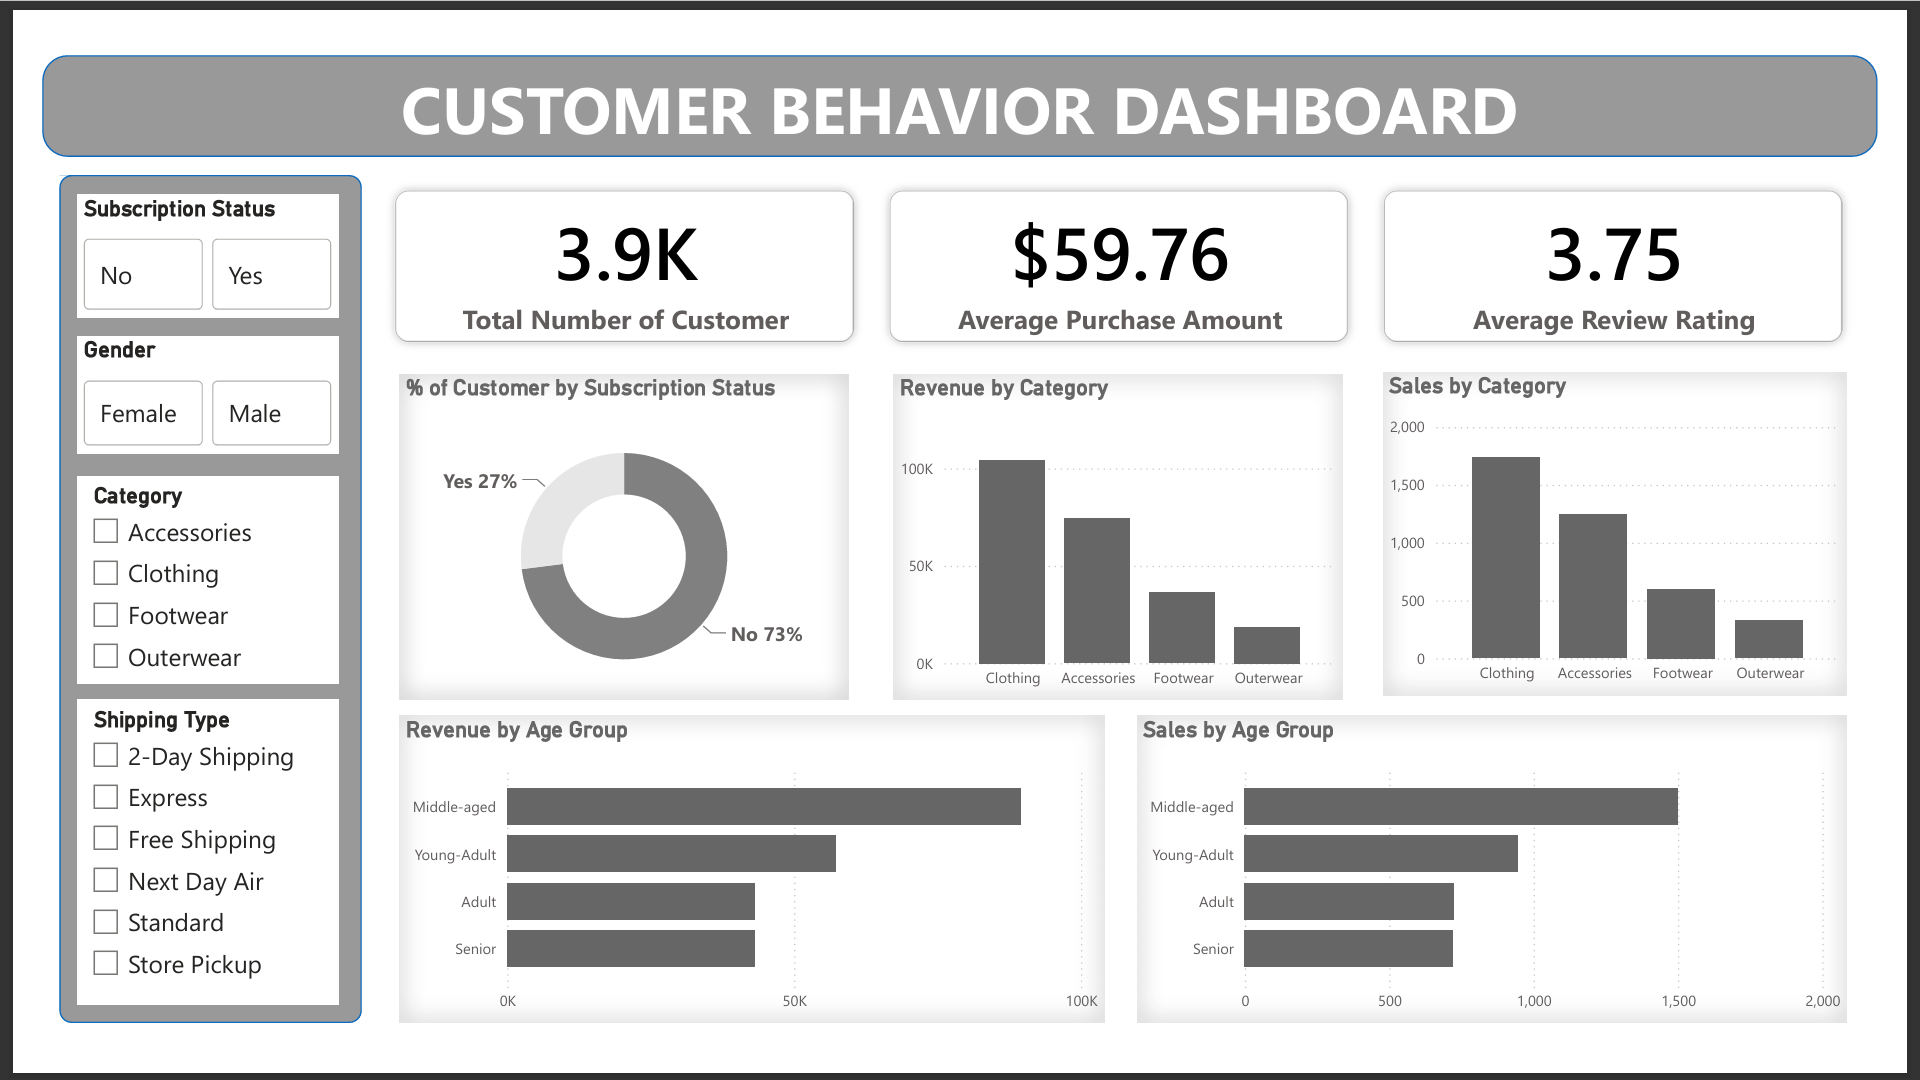

The page's visual inventory and layout, read from the dashboard file:
{"tool":"powerbi","page":{"name":"Page 1","canvas":[1500,820],"ordinal":0},"visuals":[{"type":"cardVisual","fields":{"Data":["customer_behavior customer.Total Number of Customer","customer_behavior customer.Average Purchase Amount","customer_behavior customer.Average Review Rating"]},"box":[260.9,96,1239.1,179.3],"z":0},{"type":"shape","box":[0,12.7,1499.9,83.3],"z":1},{"type":"donutChart","title":"% of Customer by Subscription Status","fields":{"Category":["customer_behavior customer.Subscription_Status"],"Y":["CountNonNull(customer_behavior customer.Customer_ID)"]},"box":[291.7,273.5,367.7,266.3],"z":3},{"type":"clusteredColumnChart","title":"Revenue by Category","fields":{"Category":["customer_behavior customer.Category"],"Y":["Sum(customer_behavior customer.Purchase_Amount)"]},"box":[695.6,273.5,367.7,266.3],"z":4},{"type":"shape","box":[14.5,110.5,246.4,693.8],"z":6},{"type":"advancedSlicerVisual","fields":{"Values":["customer_behavior customer.Gender"]},"box":[29,242.7,213.8,96],"z":7},{"type":"advancedSlicerVisual","title":"Subscription Status","fields":{"Values":["customer_behavior customer.Subscription_Status"]},"box":[29,126.8,213.8,101.4],"z":8},{"type":"slicer","fields":{"Values":["customer_behavior customer.Category"]},"box":[29,356.9,213.8,170.3],"z":9},{"type":"slicer","fields":{"Values":["customer_behavior customer.Shipping_Type"]},"box":[29,539.8,213.8,250],"z":10},{"type":"clusteredColumnChart","title":"Sales by Category","fields":{"Category":["customer_behavior customer.Category"],"Y":["CountNonNull(customer_behavior customer.Customer_ID)"]},"box":[1096,271.7,378.6,264.5],"z":11},{"type":"barChart","title":"Revenue by Age Group","fields":{"Category":["customer_behavior customer.Age_Group"],"Y":["Sum(customer_behavior customer.Purchase_Amount)"]},"box":[291.7,552.5,576.1,251.8],"z":12},{"type":"barChart","title":"Sales by Age Group","fields":{"Category":["customer_behavior customer.Age_Group"],"Y":["CountNonNull(customer_behavior customer.Customer_ID)"]},"box":[894.9,552.5,579.7,251.8],"z":13}]}

Visuals, with their boxes in screenshot pixels (x1, y1, x2, y2), scaled from the page's 1500x820 canvas onto the 1920x1080 screenshot:
cardVisual - customer_behavior customer.Total Number of Customer x customer_behavior customer.Average Purchase Amount: crop(334, 126, 1919, 363)
shape: crop(0, 17, 1919, 126)
"% of Customer by Subscription Status" donutChart: crop(373, 360, 844, 711)
"Revenue by Category" clusteredColumnChart: crop(890, 360, 1361, 711)
shape: crop(19, 146, 334, 1059)
advancedSlicerVisual - customer_behavior customer.Gender: crop(37, 320, 311, 446)
"Subscription Status" advancedSlicerVisual: crop(37, 167, 311, 301)
slicer - customer_behavior customer.Category: crop(37, 470, 311, 694)
slicer - customer_behavior customer.Shipping_Type: crop(37, 711, 311, 1040)
"Sales by Category" clusteredColumnChart: crop(1403, 358, 1887, 706)
"Revenue by Age Group" barChart: crop(373, 728, 1111, 1059)
"Sales by Age Group" barChart: crop(1145, 728, 1887, 1059)
